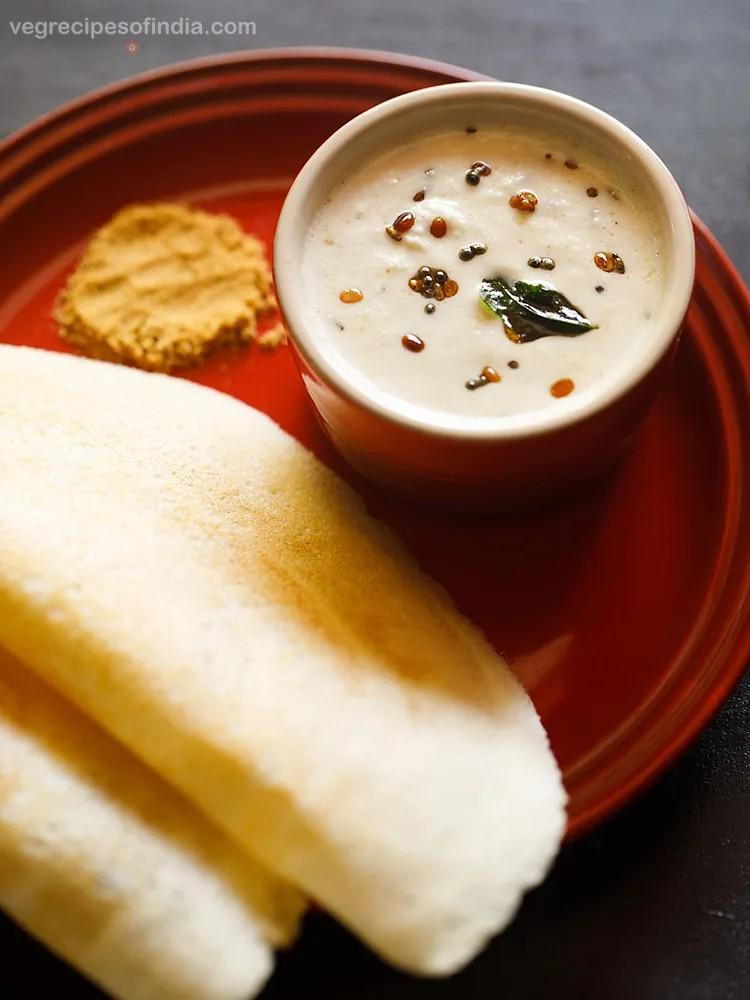CoconutChutney: (305, 127, 675, 410)
